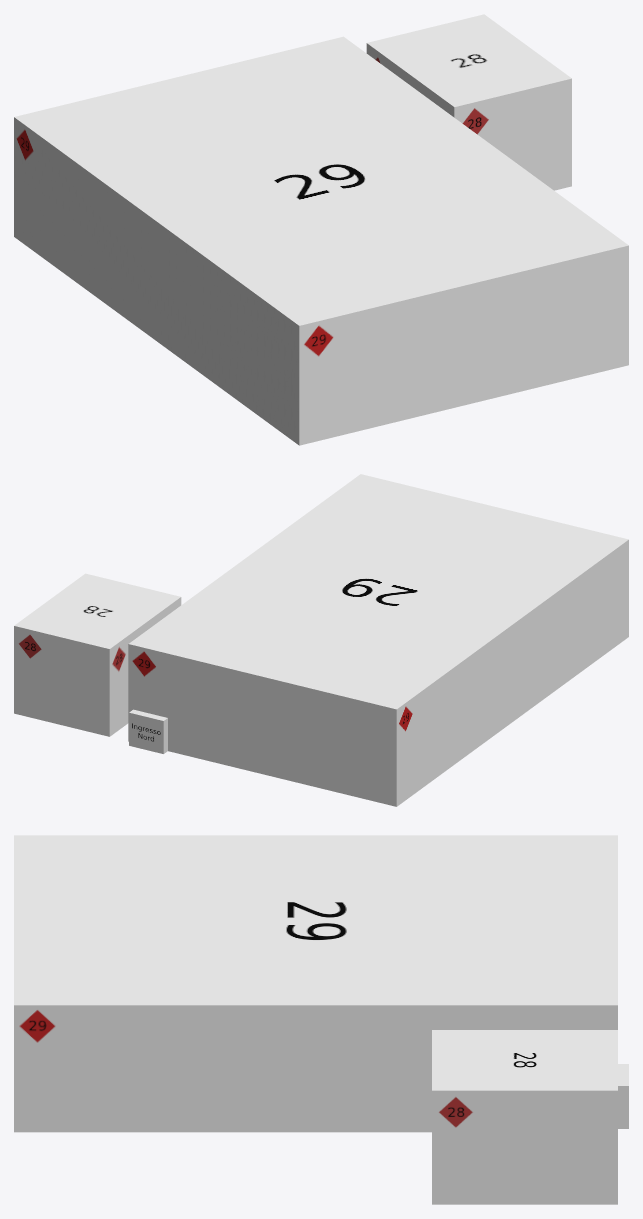
Rendered from Modello_Fiera_2.glb.
3 views of the same model, one above another, from view 1: azimuth 30°, elevation 25°; view 2: azimuth 150°, elevation 25°; view 3: azimuth 270°, elevation 25° (orthographic). The views are drawn at different scales.
Visible parts, largest first — view 1: Padiglione 29, Padiglione 28; view 2: Padiglione 29, Padiglione 28, Ingresso Nord; view 3: Padiglione 29, Padiglione 28, Ingresso Nord.
Boxes of the visible parts, x1,y1,x2,y2 form: Padiglione 29: (14, 36, 628, 445); Padiglione 28: (366, 14, 571, 190); Padiglione 29: (128, 474, 628, 806); Padiglione 28: (14, 573, 181, 736); Ingresso Nord: (129, 709, 167, 753); Padiglione 29: (14, 835, 617, 1132); Padiglione 28: (432, 1030, 617, 1204); Ingresso Nord: (618, 1064, 628, 1128).
Bounding box in the file's own units: 4.11 × 1 × 4.4.
Materials: 3 (3 with a texture image).
